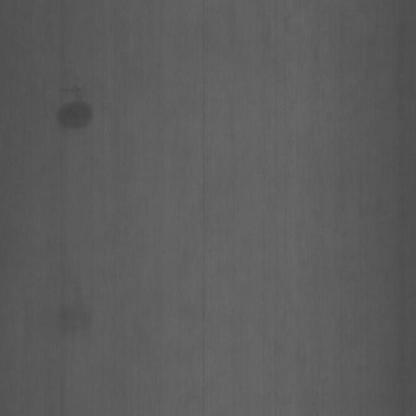oil_spot: (46, 90, 98, 136)
